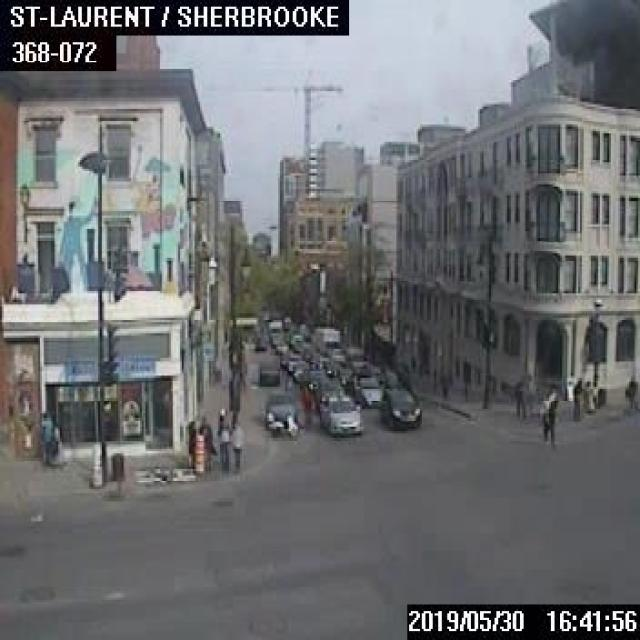construction: (191, 431, 205, 471), (87, 447, 100, 489)
pedestrian: (538, 389, 558, 444), (197, 414, 216, 470), (215, 407, 231, 468), (40, 406, 56, 466), (229, 420, 243, 468), (184, 416, 197, 466), (513, 374, 528, 416), (571, 376, 582, 416), (583, 378, 594, 413), (624, 373, 634, 409)
vehicle: (318, 394, 360, 434), (380, 389, 420, 427), (263, 390, 295, 423), (316, 375, 344, 409), (267, 406, 297, 436), (354, 374, 382, 405), (257, 353, 279, 385), (291, 361, 307, 380), (286, 354, 300, 372)
